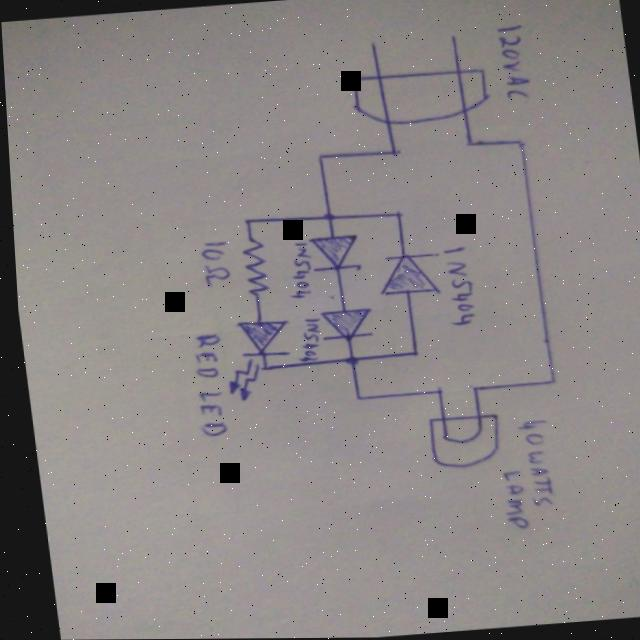diode: (215, 317, 292, 403), (366, 248, 441, 301), (304, 229, 361, 278), (311, 303, 376, 345)
junction: (315, 210, 337, 225), (337, 353, 355, 368), (383, 146, 401, 159), (236, 215, 253, 228), (388, 208, 404, 221), (458, 138, 475, 150), (511, 137, 526, 150), (310, 151, 325, 164), (462, 383, 476, 395), (403, 348, 418, 359), (428, 386, 440, 399), (541, 377, 555, 387), (347, 393, 359, 402)
resistor: (232, 234, 269, 298)
terminal: (446, 30, 457, 42), (367, 38, 376, 49)
text: (179, 329, 230, 441), (507, 415, 555, 513), (432, 242, 476, 330), (491, 21, 535, 106), (488, 465, 525, 532), (277, 238, 314, 302), (192, 236, 231, 288), (288, 313, 323, 363)
